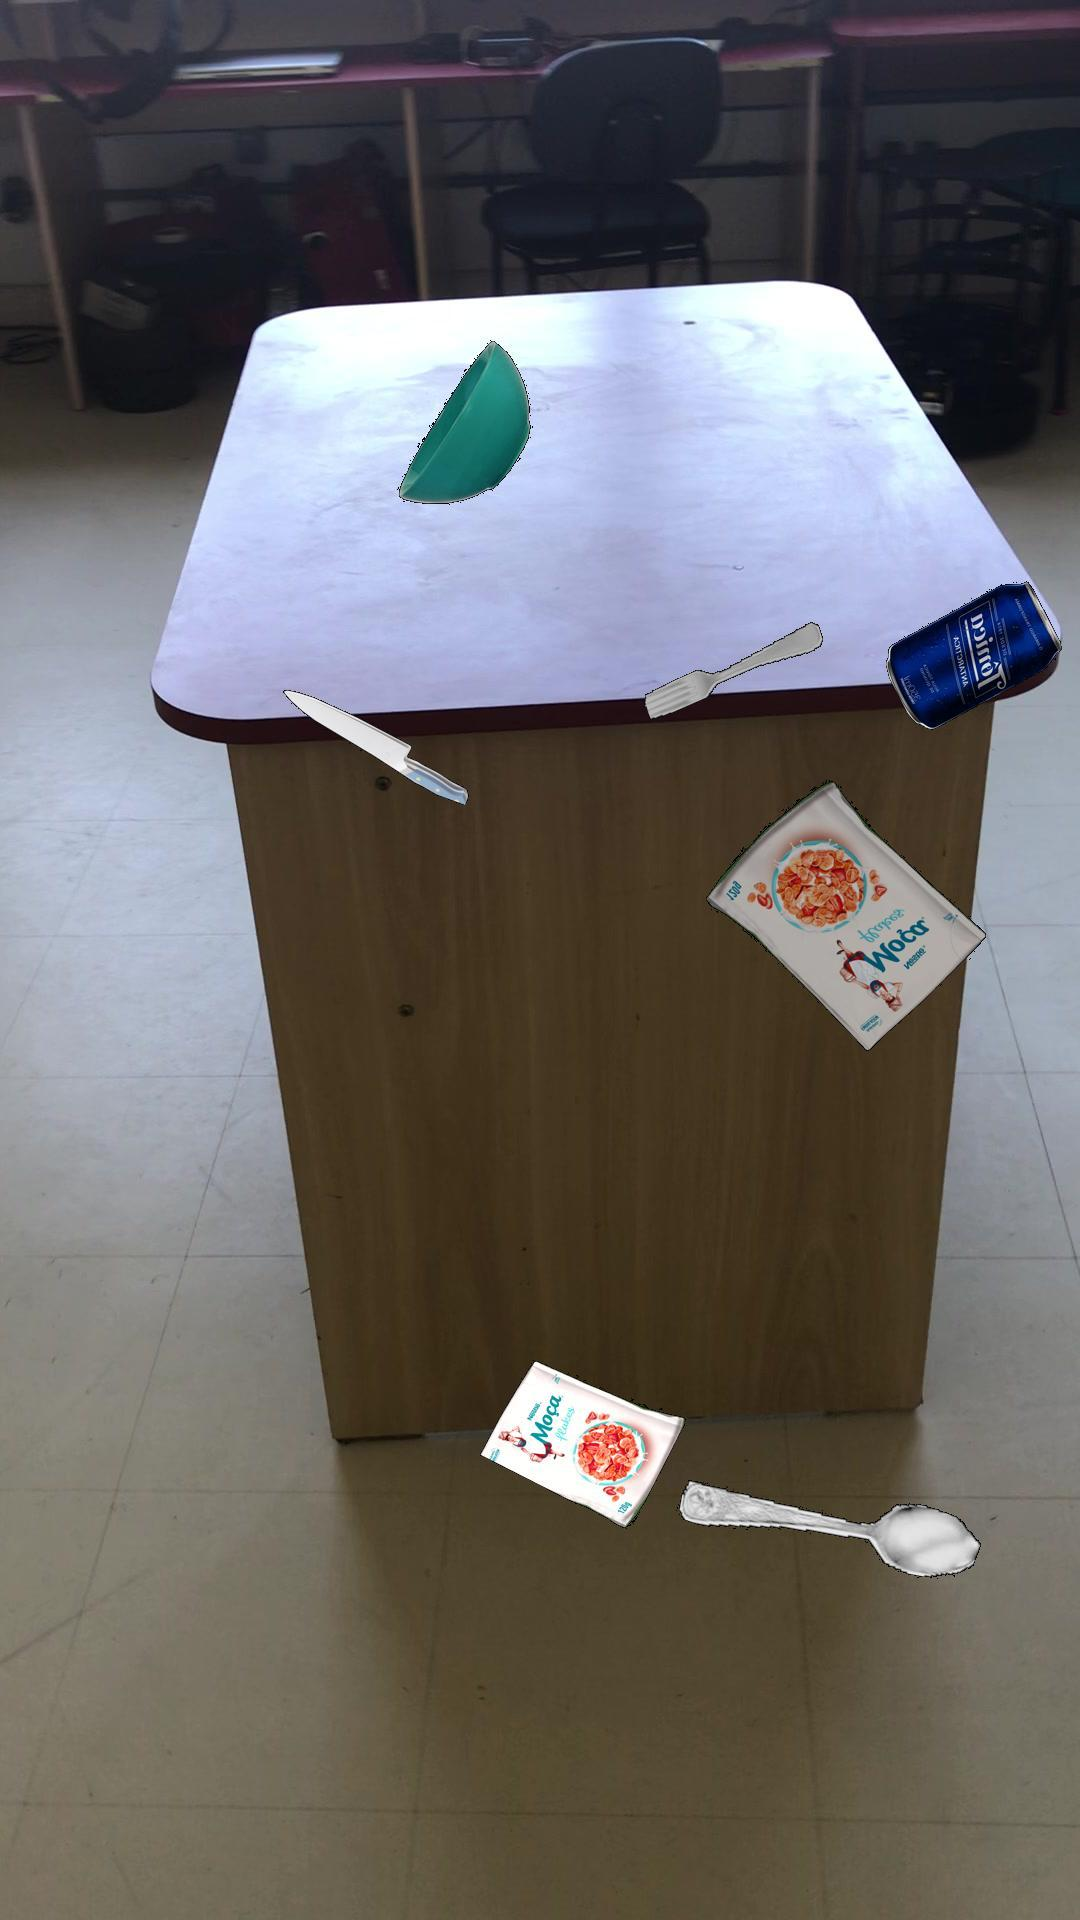bowl: (397, 339, 530, 502)
corn flakes: (704, 778, 985, 1050), (479, 1360, 684, 1527)
fork: (642, 621, 822, 717)
knife: (281, 688, 468, 803)
spoon: (678, 1478, 980, 1577)
tonic: (885, 579, 1060, 728)
